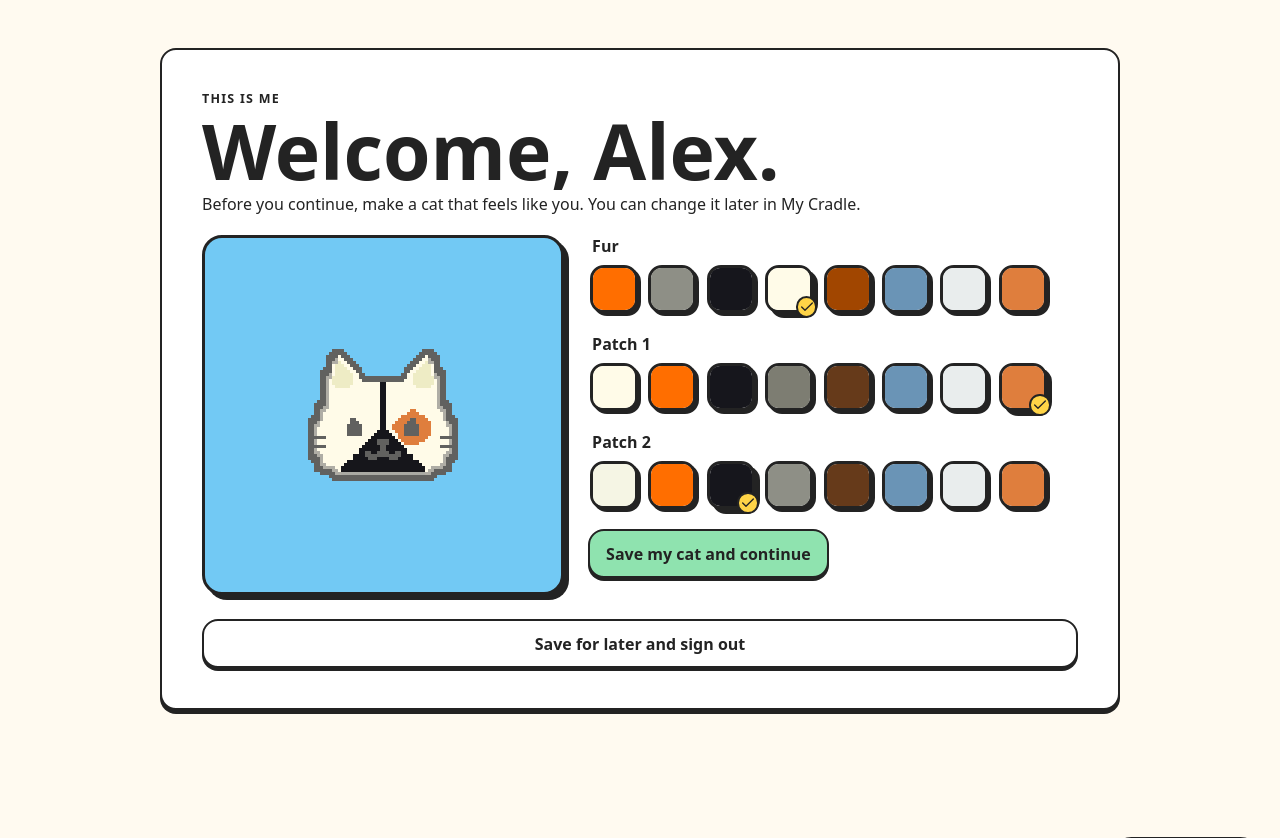
Test: household onboarding › welcomes a newly linked family member into cat customisation before Dashboard
The width and height of the screenshot is (1280, 838).
Expected: the heading "Welcome, Alex." is shown, left=202, top=113, right=817, bottom=188
Click the radio button named "Fur: Grey": point(672, 289) left=648, top=265, right=696, bottom=313
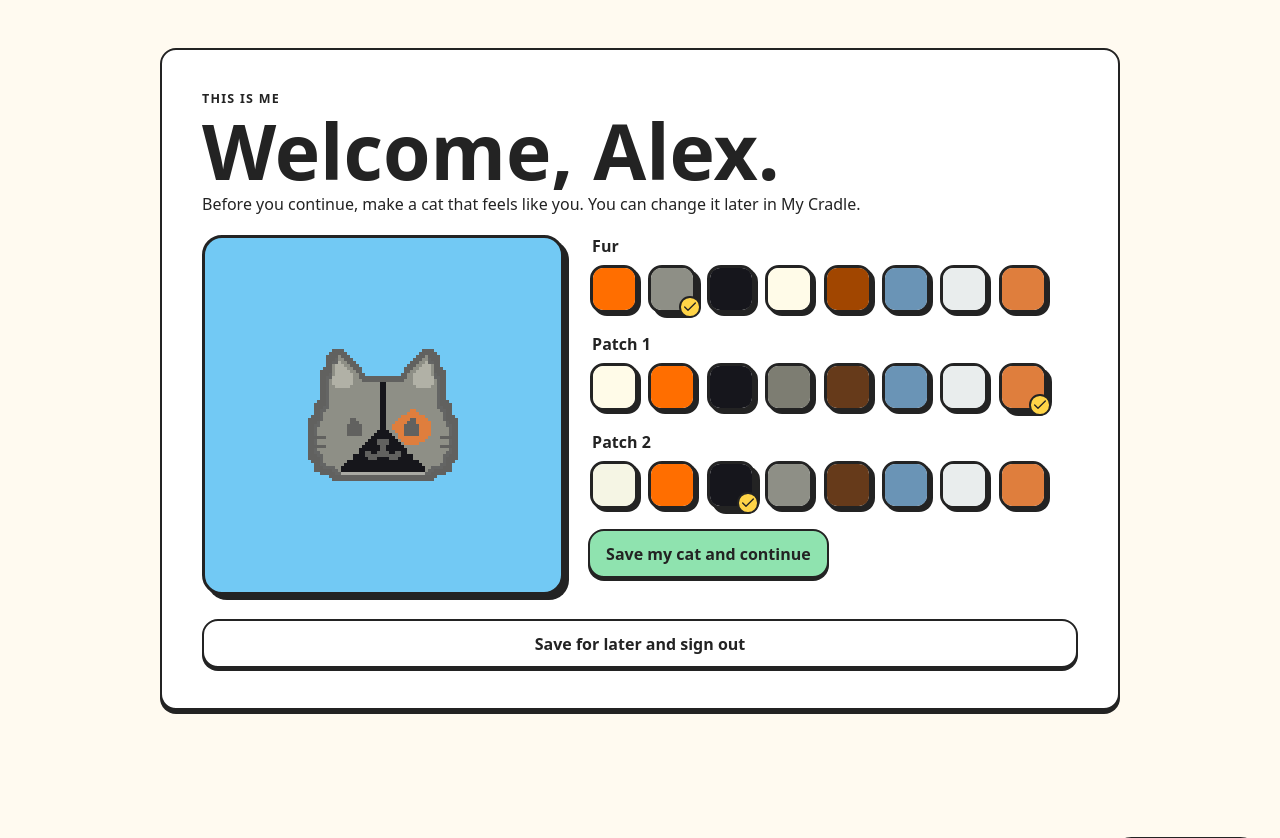
Click the button "Save my cat and continue": point(708, 554) left=588, top=529, right=829, bottom=578
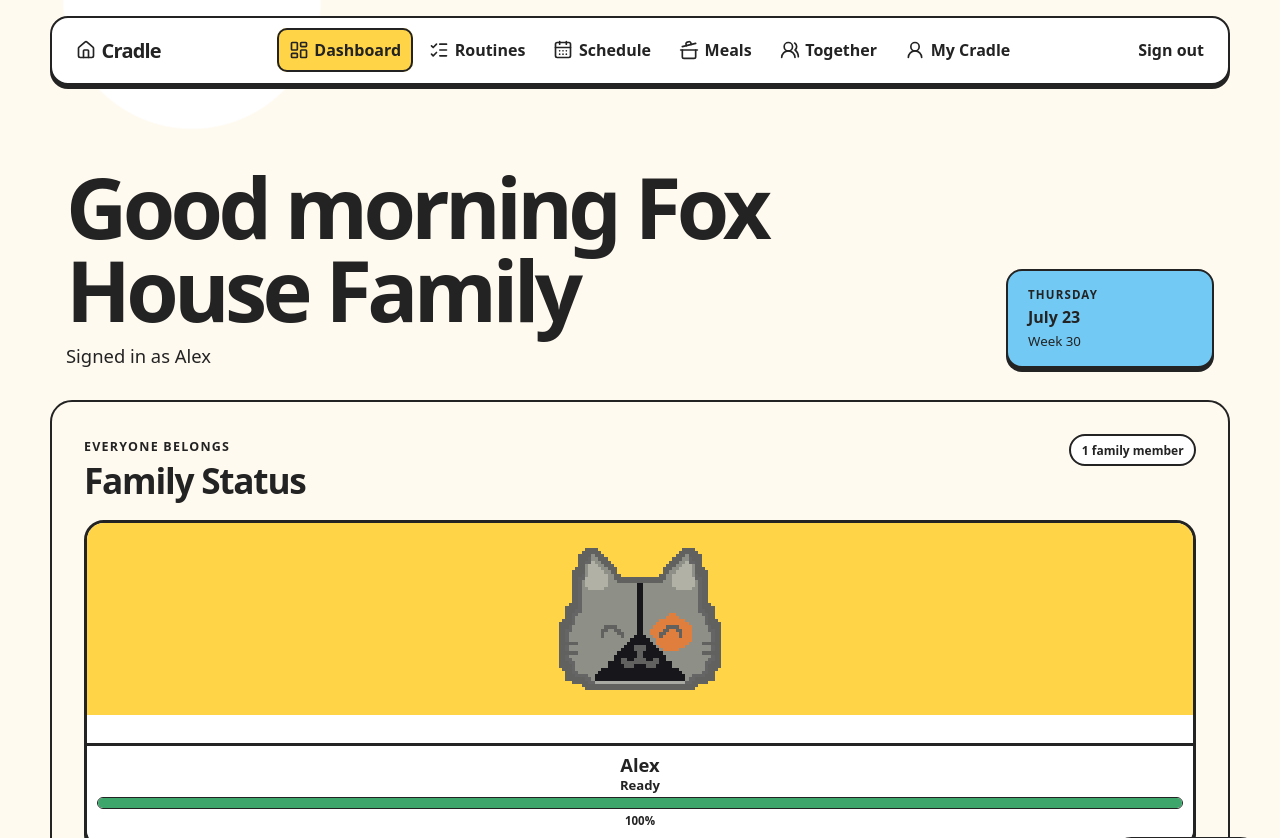
Result: the heading "Good morning Fox House Family" is shown at left=66, top=148, right=767, bottom=347
